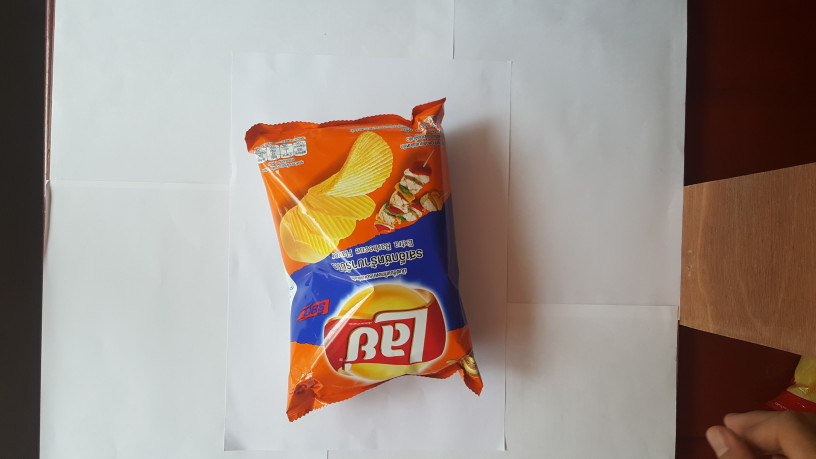lays-bbq: (231, 98, 491, 420)
